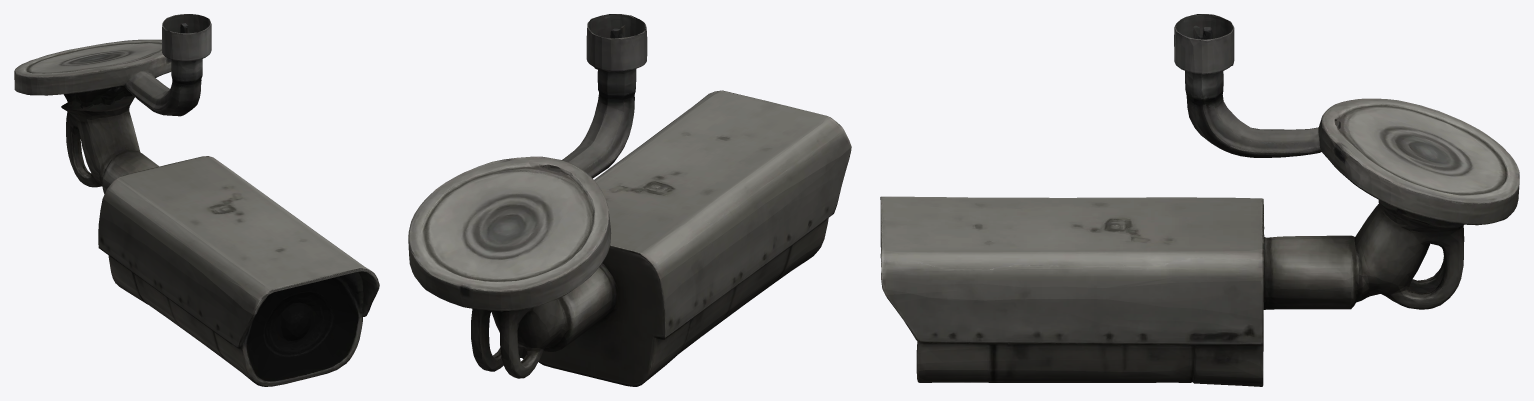
Rendered from security_camera.glb.
3 renders of one model, left to right at view 1: azimuth 30°, elevation 25°; view 2: azimuth 150°, elevation 25°; view 3: azimuth 270°, elevation 25°, orthographic. The views are drawn at different scales.
Visible parts, largest first — view 1: geometry_0; view 2: geometry_0; view 3: geometry_0.
Boxes of the visible parts, x1,y1,x2,y2 form: geometry_0: (14,14,379,386); geometry_0: (408,14,851,386); geometry_0: (880,14,1519,386).
Size of the model in its own units: 0.3276 by 0.583 by 0.9985.
1 material, 1 textured.
